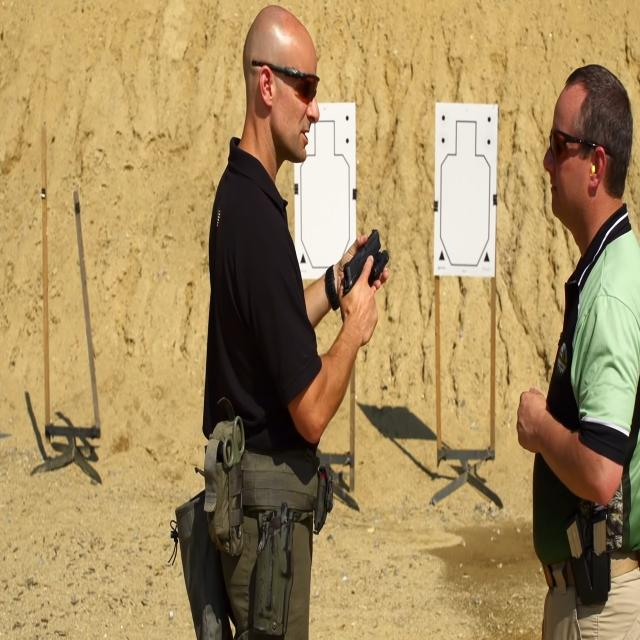Gun_Holder: (326, 224, 392, 326)
Person: (186, 1, 378, 640), (510, 61, 640, 640)
